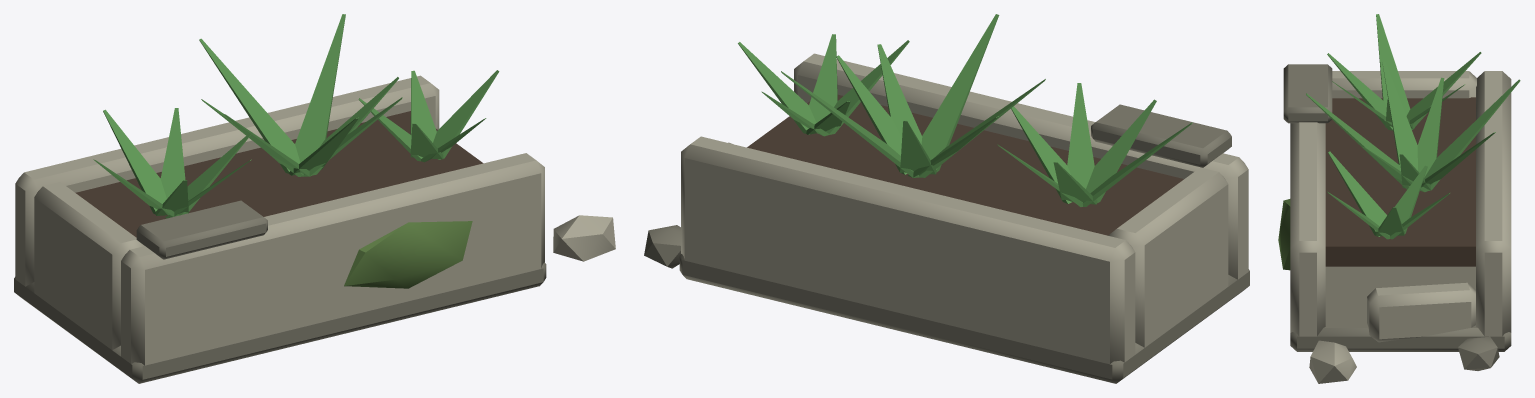
Rendered from garden_planter.fbx.
3 renders of one model, left to right at view 1: azimuth 30°, elevation 25°; view 2: azimuth 150°, elevation 25°; view 3: azimuth 270°, elevation 25°, orthographic. The views are drawn at different scales.
Visible parts, largest first — view 1: garden_planter; view 2: garden_planter; view 3: garden_planter.
Boxes of the visible parts, x1,y1,x2,y2 form: garden_planter: (14, 14, 615, 383); garden_planter: (644, 14, 1249, 383); garden_planter: (1278, 14, 1520, 383).
Size of the model in its own units: 2.3 by 0.9556 by 1.1.
